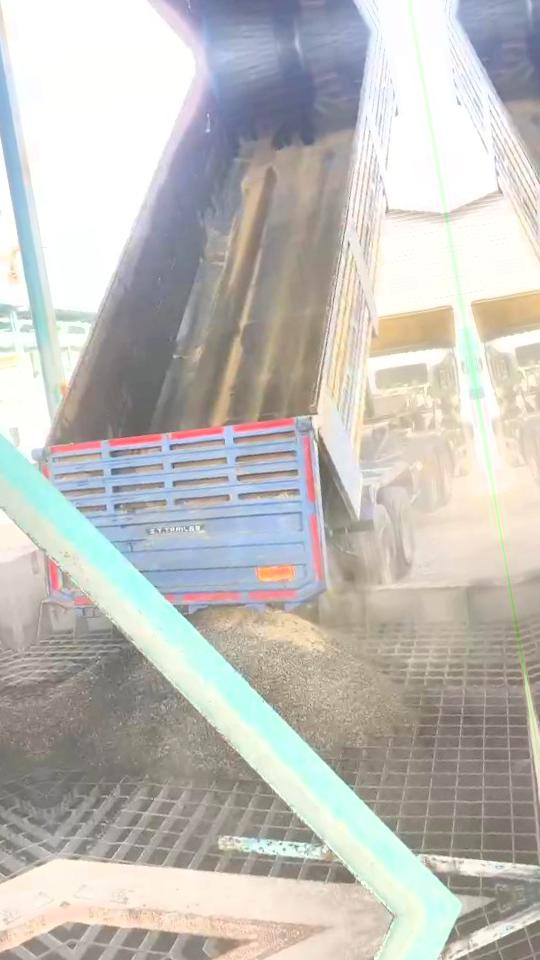gravel: (195, 608, 411, 754), (26, 654, 244, 780)
